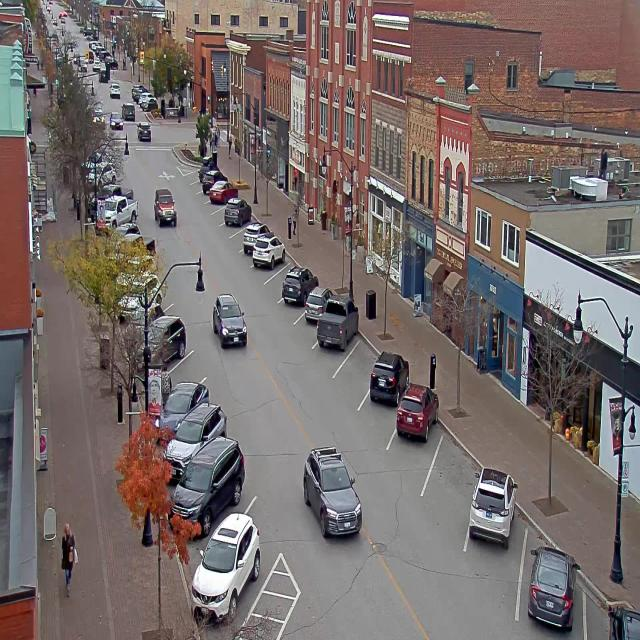available: (428, 431, 482, 511), (343, 332, 379, 386), (167, 342, 211, 383), (261, 260, 290, 303), (226, 221, 248, 251), (209, 203, 227, 226), (185, 164, 201, 183)
occupied: (170, 435, 246, 538), (199, 508, 265, 598), (527, 544, 579, 630), (468, 466, 517, 548), (165, 397, 230, 458), (153, 380, 209, 441), (396, 380, 440, 441), (587, 588, 639, 639), (316, 296, 358, 352), (141, 313, 187, 364), (368, 350, 409, 406), (282, 264, 318, 305), (303, 280, 329, 330), (252, 232, 285, 269), (224, 197, 252, 227), (242, 223, 264, 255), (200, 168, 224, 193), (210, 178, 232, 205), (198, 156, 213, 182)
